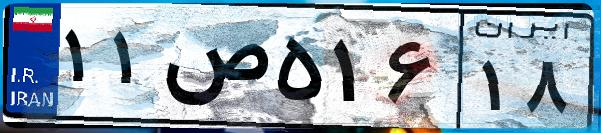1: (330, 28, 385, 110), (57, 26, 110, 100), (475, 38, 525, 113), (110, 28, 158, 98)
5: (270, 28, 330, 110)
6: (385, 28, 445, 110)
8: (525, 38, 570, 115)
ص: (158, 20, 270, 120)
